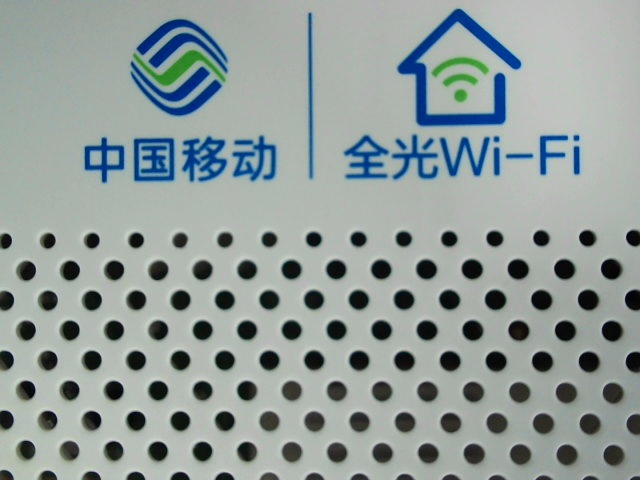BJ_QuanGuangMobile: (78, 5, 583, 187)
